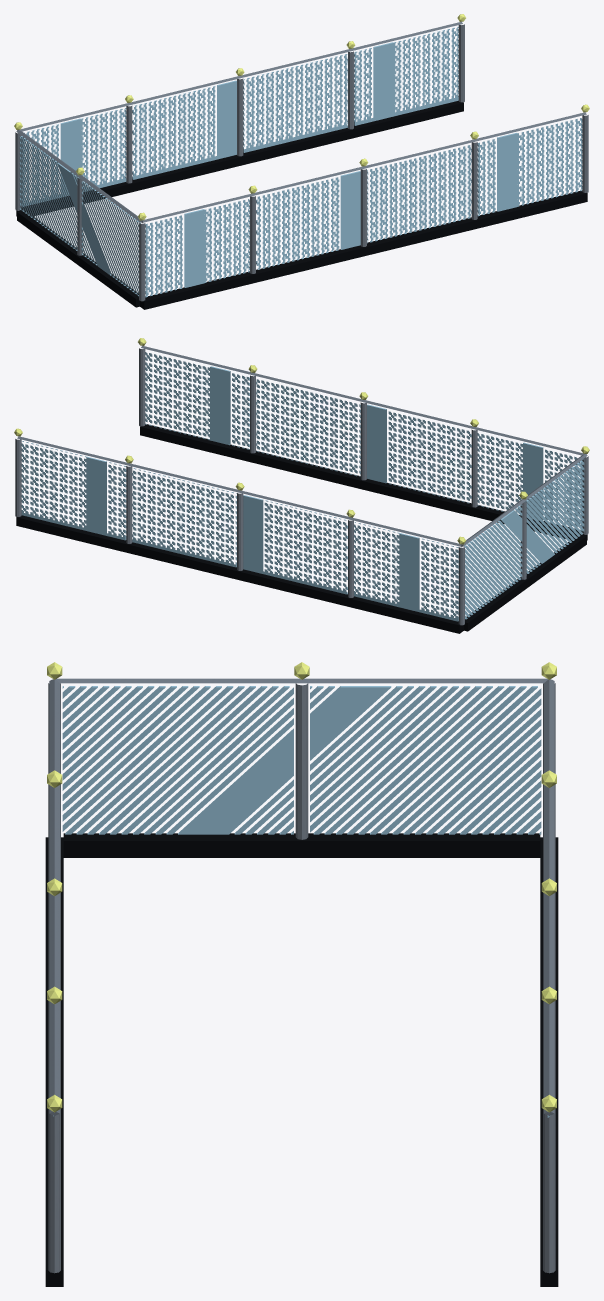
File: tt_struct_f2_feature_stair_guard.glb
3 views of the same model, one above another, from view 1: azimuth 30°, elevation 25°; view 2: azimuth 150°, elevation 25°; view 3: azimuth 270°, elevation 25° (orthographic). The views are drawn at different scales.
Parts seen in each view (by area): view 1: Guard_Pane_Scissor, Guard_Kerb, Guard_Posts, Guard_Rail, Guard_Ball_Finials; view 2: Guard_Pane_Scissor, Guard_Kerb, Guard_Posts, Guard_Rail, Guard_Ball_Finials; view 3: Guard_Pane_Scissor, Guard_Kerb, Guard_Rail, Guard_Posts, Guard_Ball_Finials.
Part boxes in pixels (<box>): Guard_Pane_Scissor: <box>19,27,582,297</box>; Guard_Kerb: <box>16,100,587,309</box>; Guard_Posts: <box>15,24,588,301</box>; Guard_Rail: <box>16,21,586,222</box>; Guard_Ball_Finials: <box>14,14,589,220</box>; Guard_Pane_Scissor: <box>21,352,584,621</box>; Guard_Kerb: <box>16,424,587,633</box>; Guard_Posts: <box>15,348,588,625</box>; Guard_Rail: <box>17,345,587,546</box>; Guard_Ball_Finials: <box>14,338,589,544</box>; Guard_Pane_Scissor: <box>53,686,550,1117</box>; Guard_Kerb: <box>45,833,558,1286</box>; Guard_Rail: <box>49,678,554,1115</box>; Guard_Posts: <box>48,683,555,1273</box>; Guard_Ball_Finials: <box>47,662,556,1112</box>.
Size of what is drawn, in the model's own units: 5.76 by 1.16 by 2.84.
5 materials, 4 textured.
